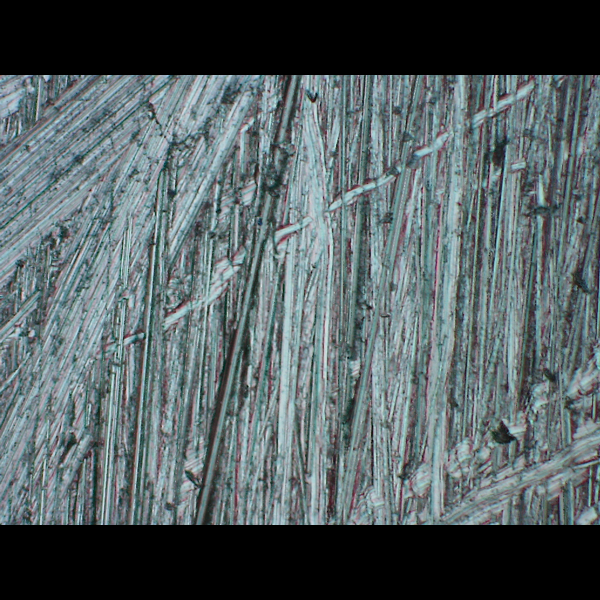d: (0, 75, 263, 515)
